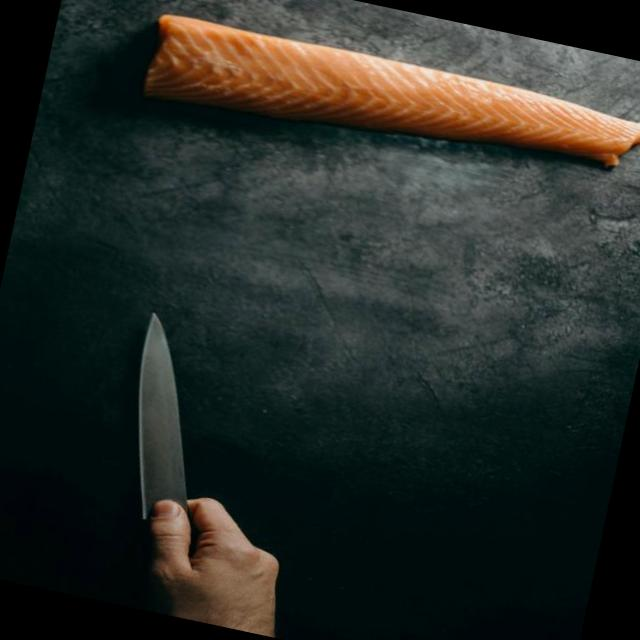Knife: (136, 316, 188, 522)
